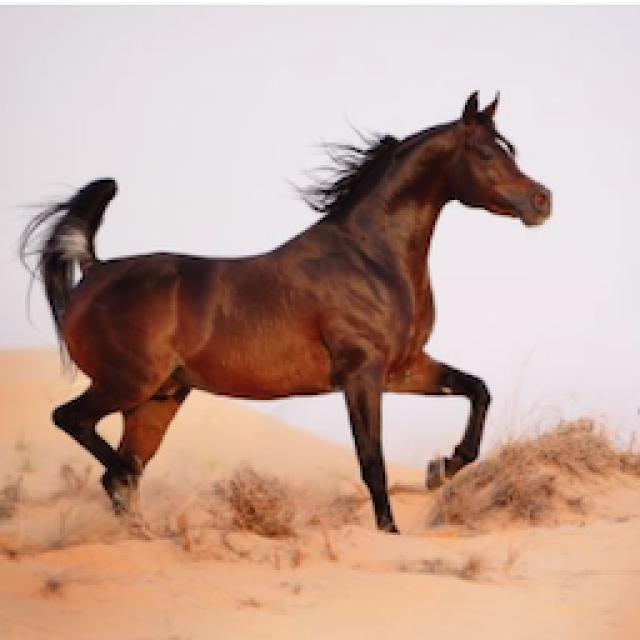Horse: (12, 85, 558, 538)
